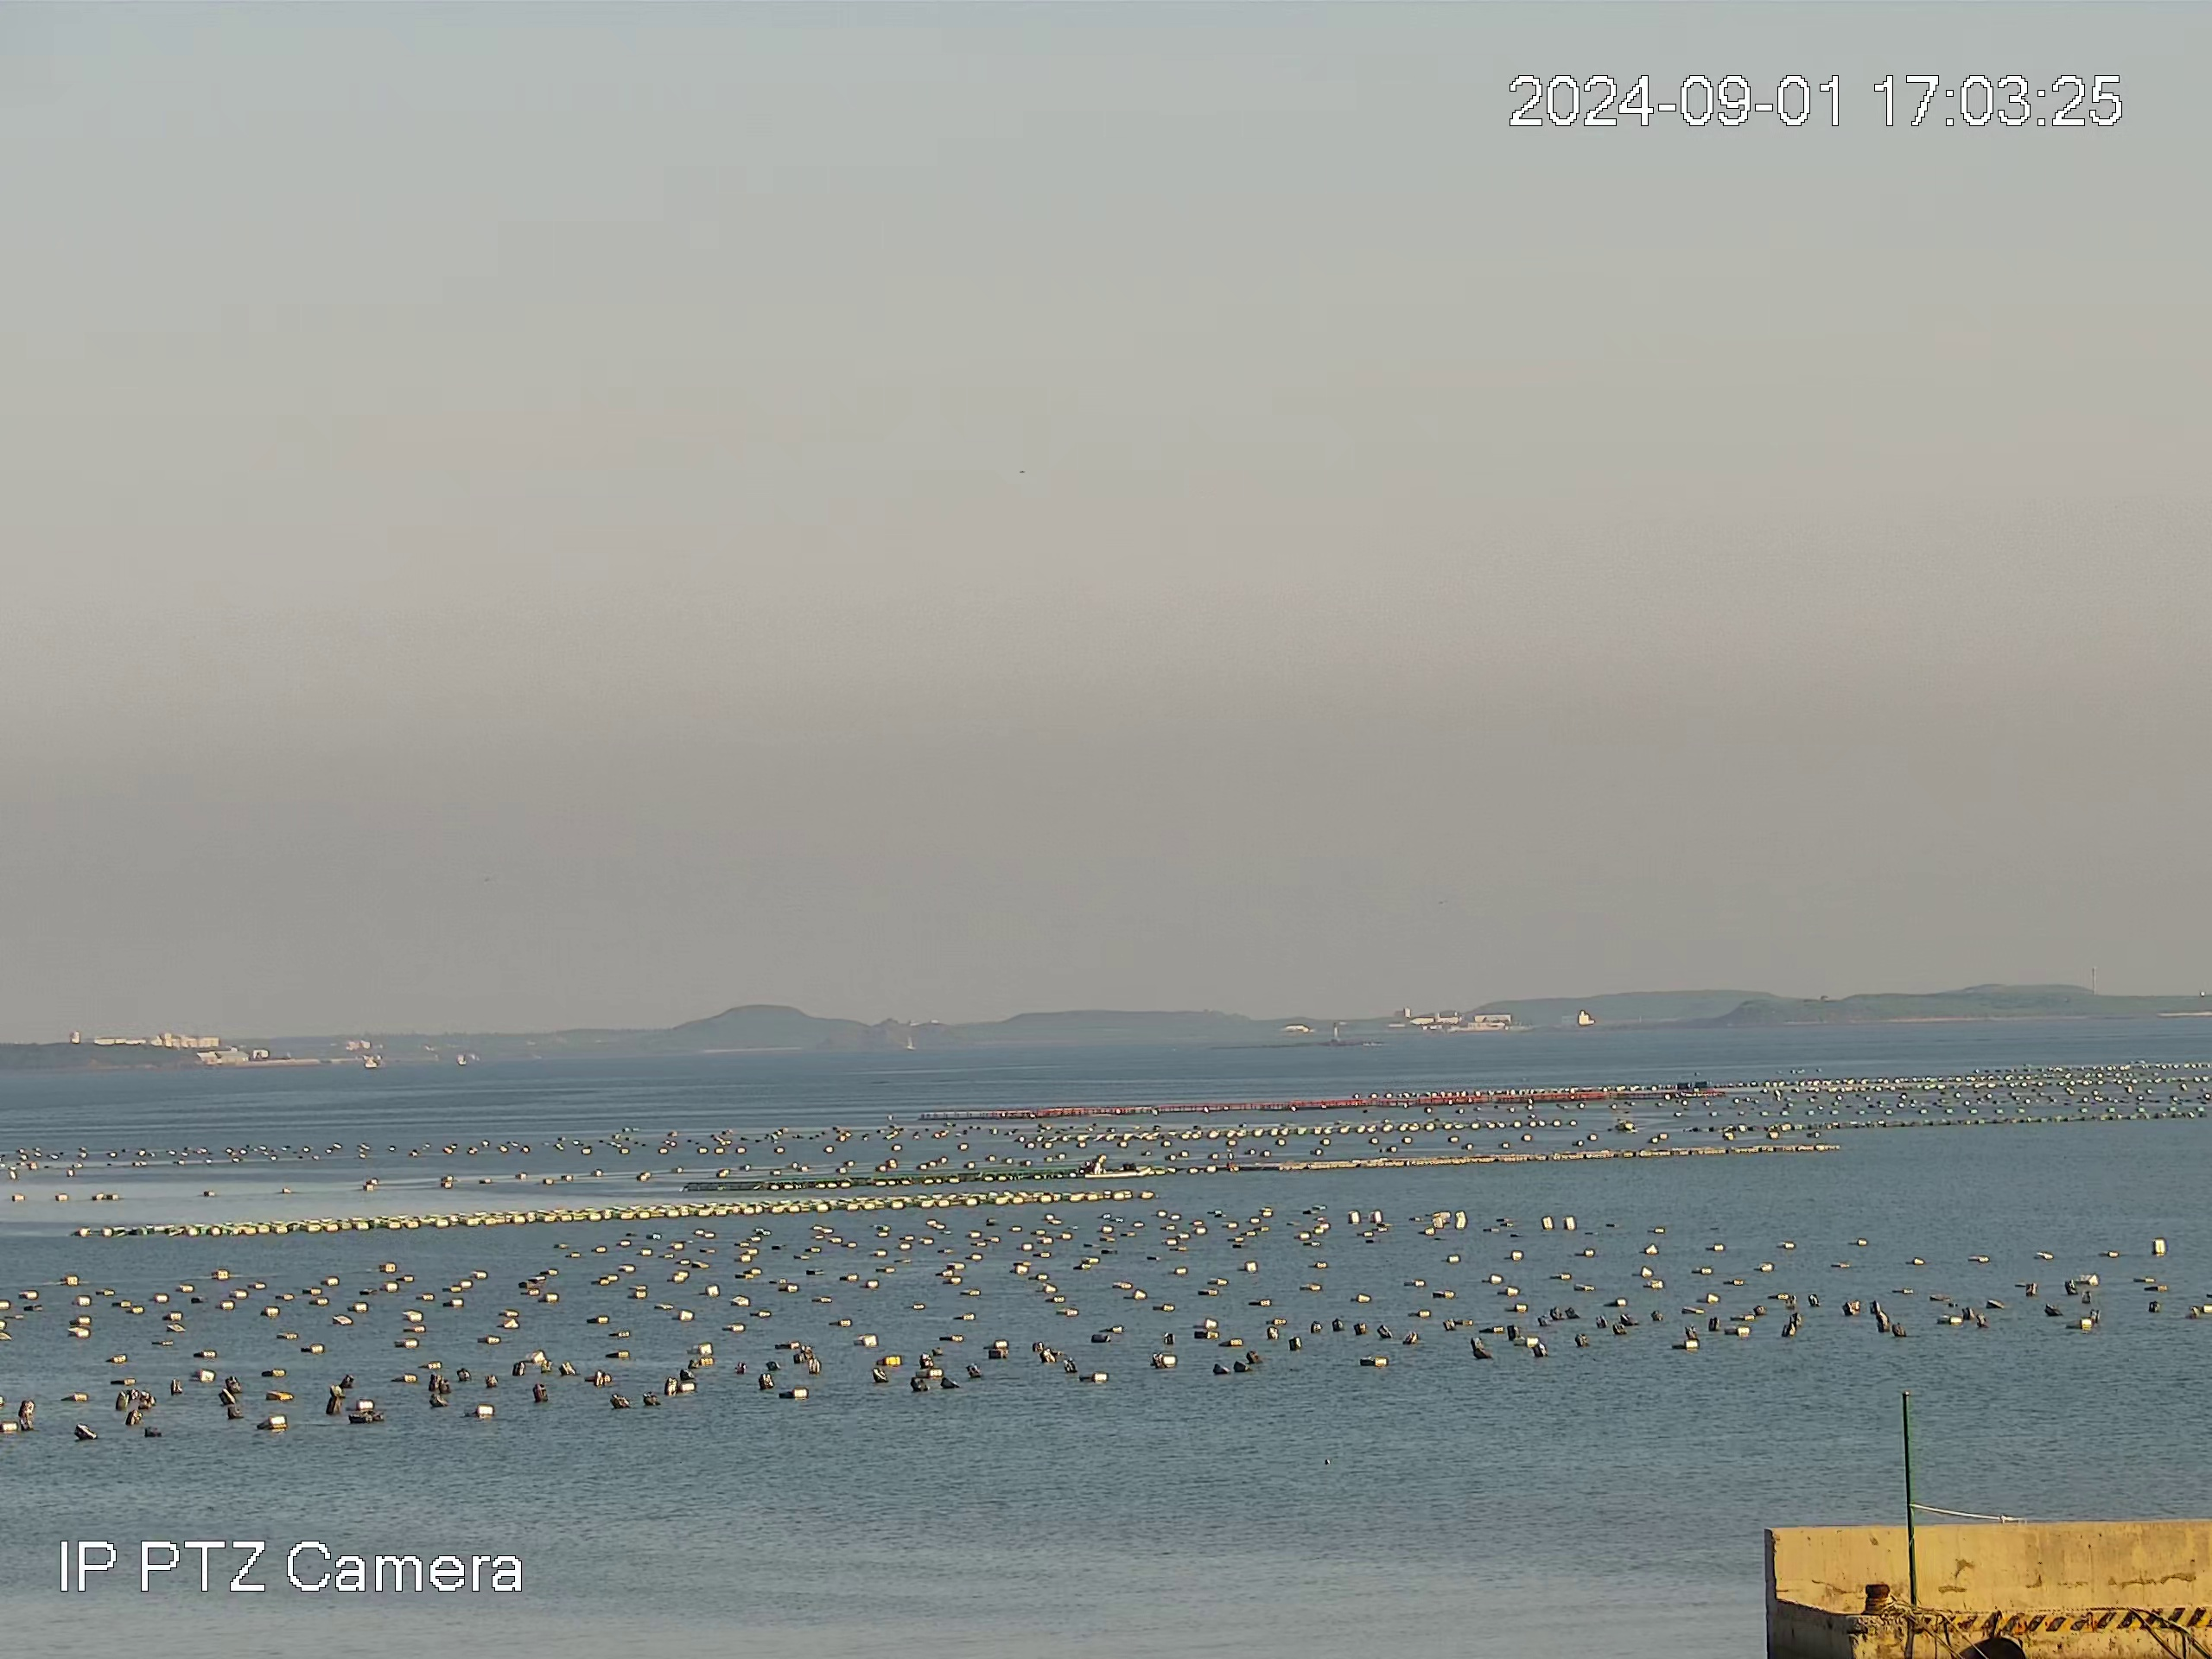boat: (1090, 1155, 1150, 1176), (1615, 1115, 1644, 1136)
